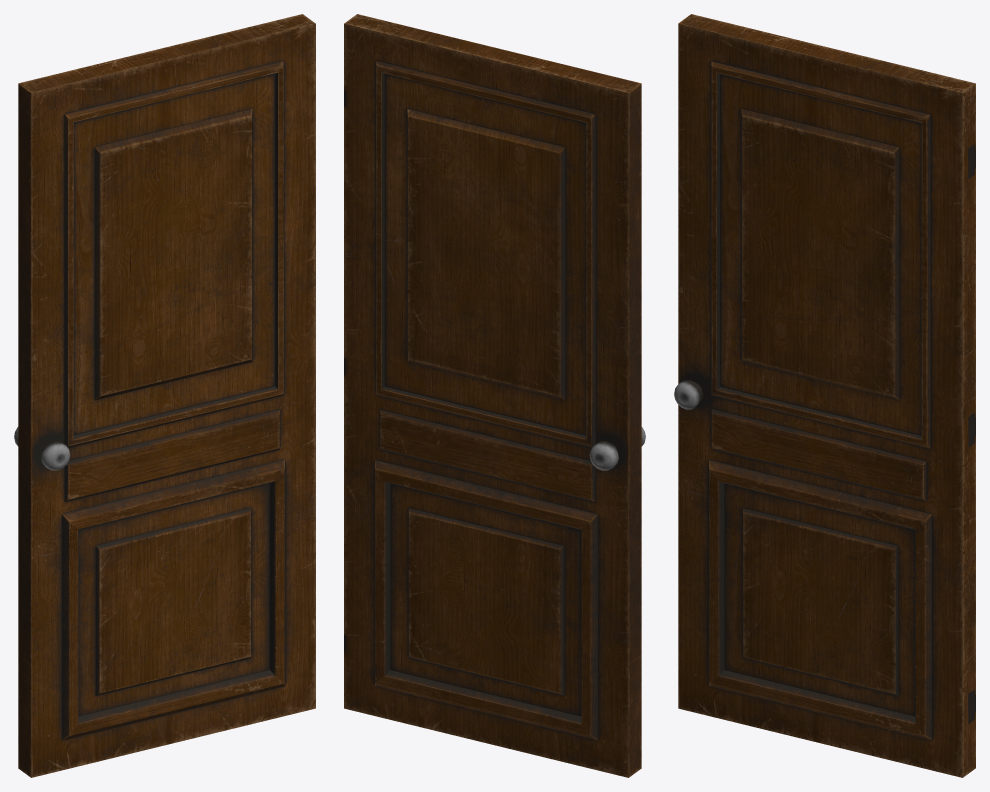
File: door.glb
The picture shows the model from 3 angles, left to right: view 1: azimuth 30°, elevation 25°; view 2: azimuth 150°, elevation 25°; view 3: azimuth 330°, elevation 25°; orthographic projection.
Parts seen in each view (by area): view 1: door, handel; view 2: door, handel; view 3: door, handel.
Boxes of the visible parts, x1,y1,x2,y2 form: door: (18,14,315,777); handel: (14,427,70,470); door: (344,14,641,777); handel: (589,427,645,470); door: (678,14,975,777); handel: (674,380,703,409).
Size of the model in its own units: 100 by 230 by 22.54.
Materials: 1 (1 with a texture image).
